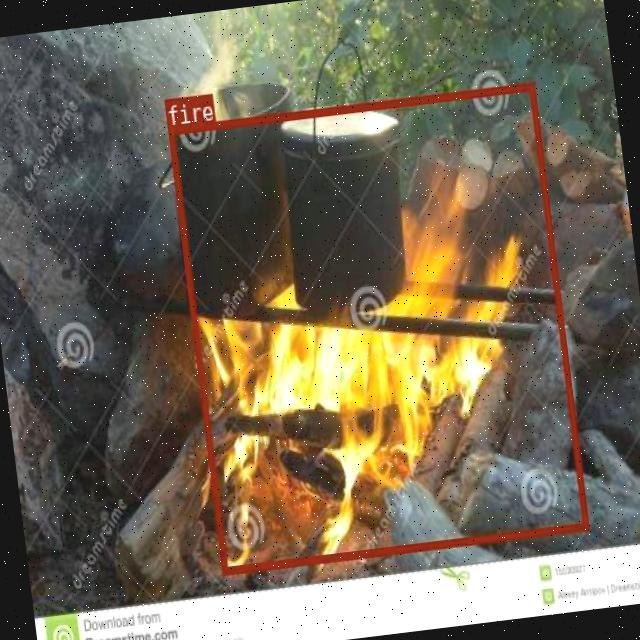fire: (167, 81, 588, 574)
